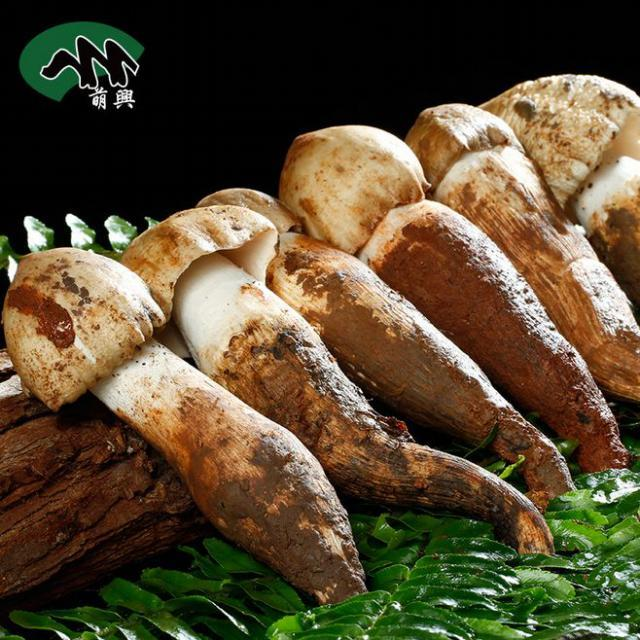Collybia albuminosa: (130, 207, 545, 558), (11, 248, 360, 603), (284, 126, 618, 466), (409, 106, 640, 402), (502, 75, 640, 275)
